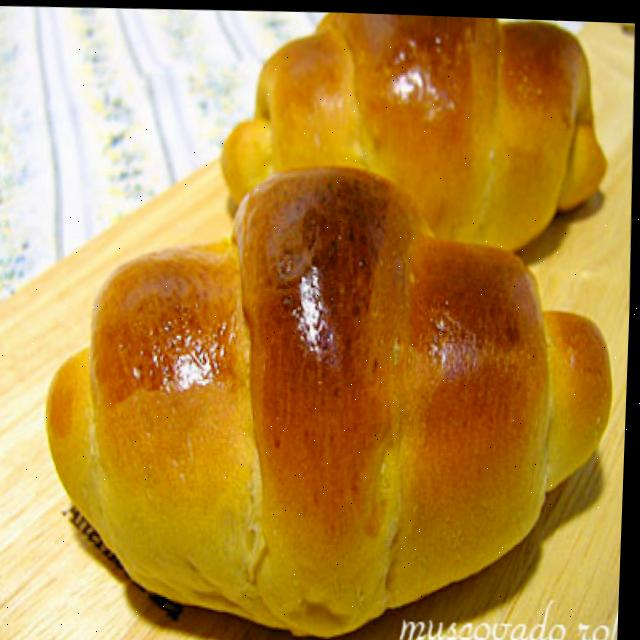面包点心: (28, 142, 624, 640)
